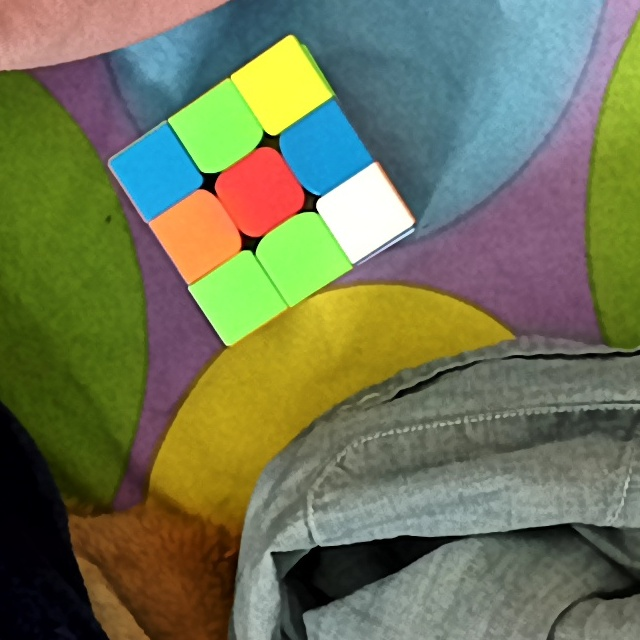tile: (339, 187, 391, 238), (275, 230, 326, 280), (234, 167, 284, 217), (174, 208, 221, 260), (303, 124, 351, 174), (213, 275, 261, 325), (198, 106, 243, 157), (136, 147, 181, 197), (260, 62, 305, 109)
